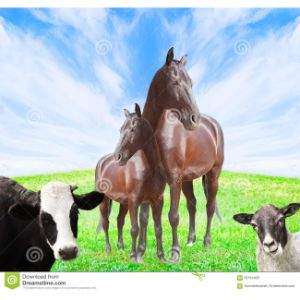cow: (1, 170, 97, 271)
horse: (164, 46, 226, 263), (99, 102, 163, 259)
sheep: (229, 199, 300, 270)
